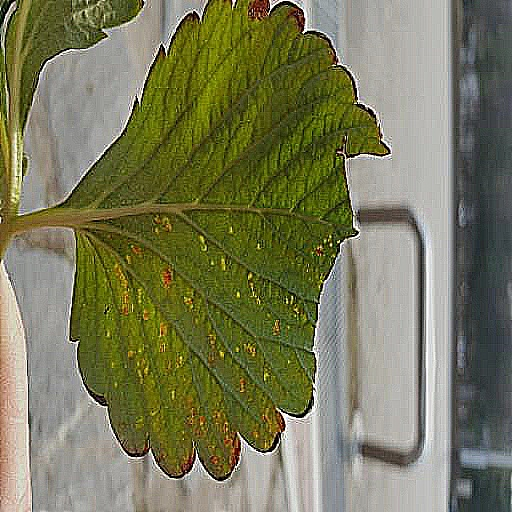Angular Leafspot: (169, 213, 437, 481)
